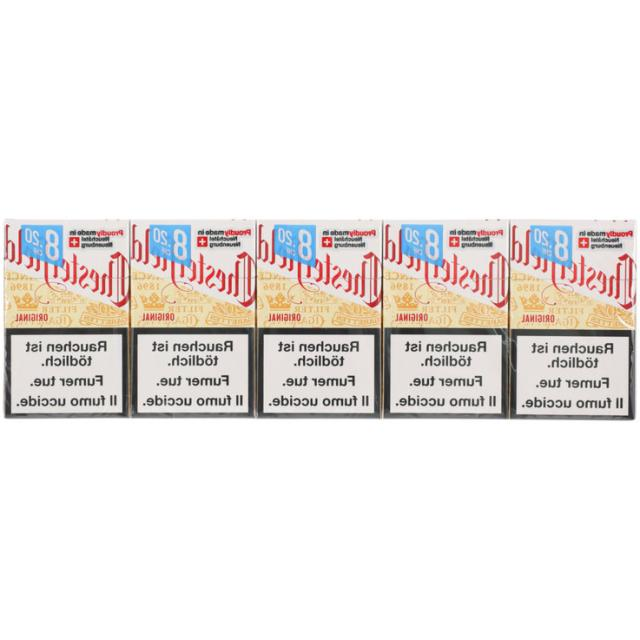chesterfield: (252, 225, 383, 420), (507, 224, 636, 422), (7, 219, 132, 419), (383, 226, 508, 422), (131, 219, 252, 420)
